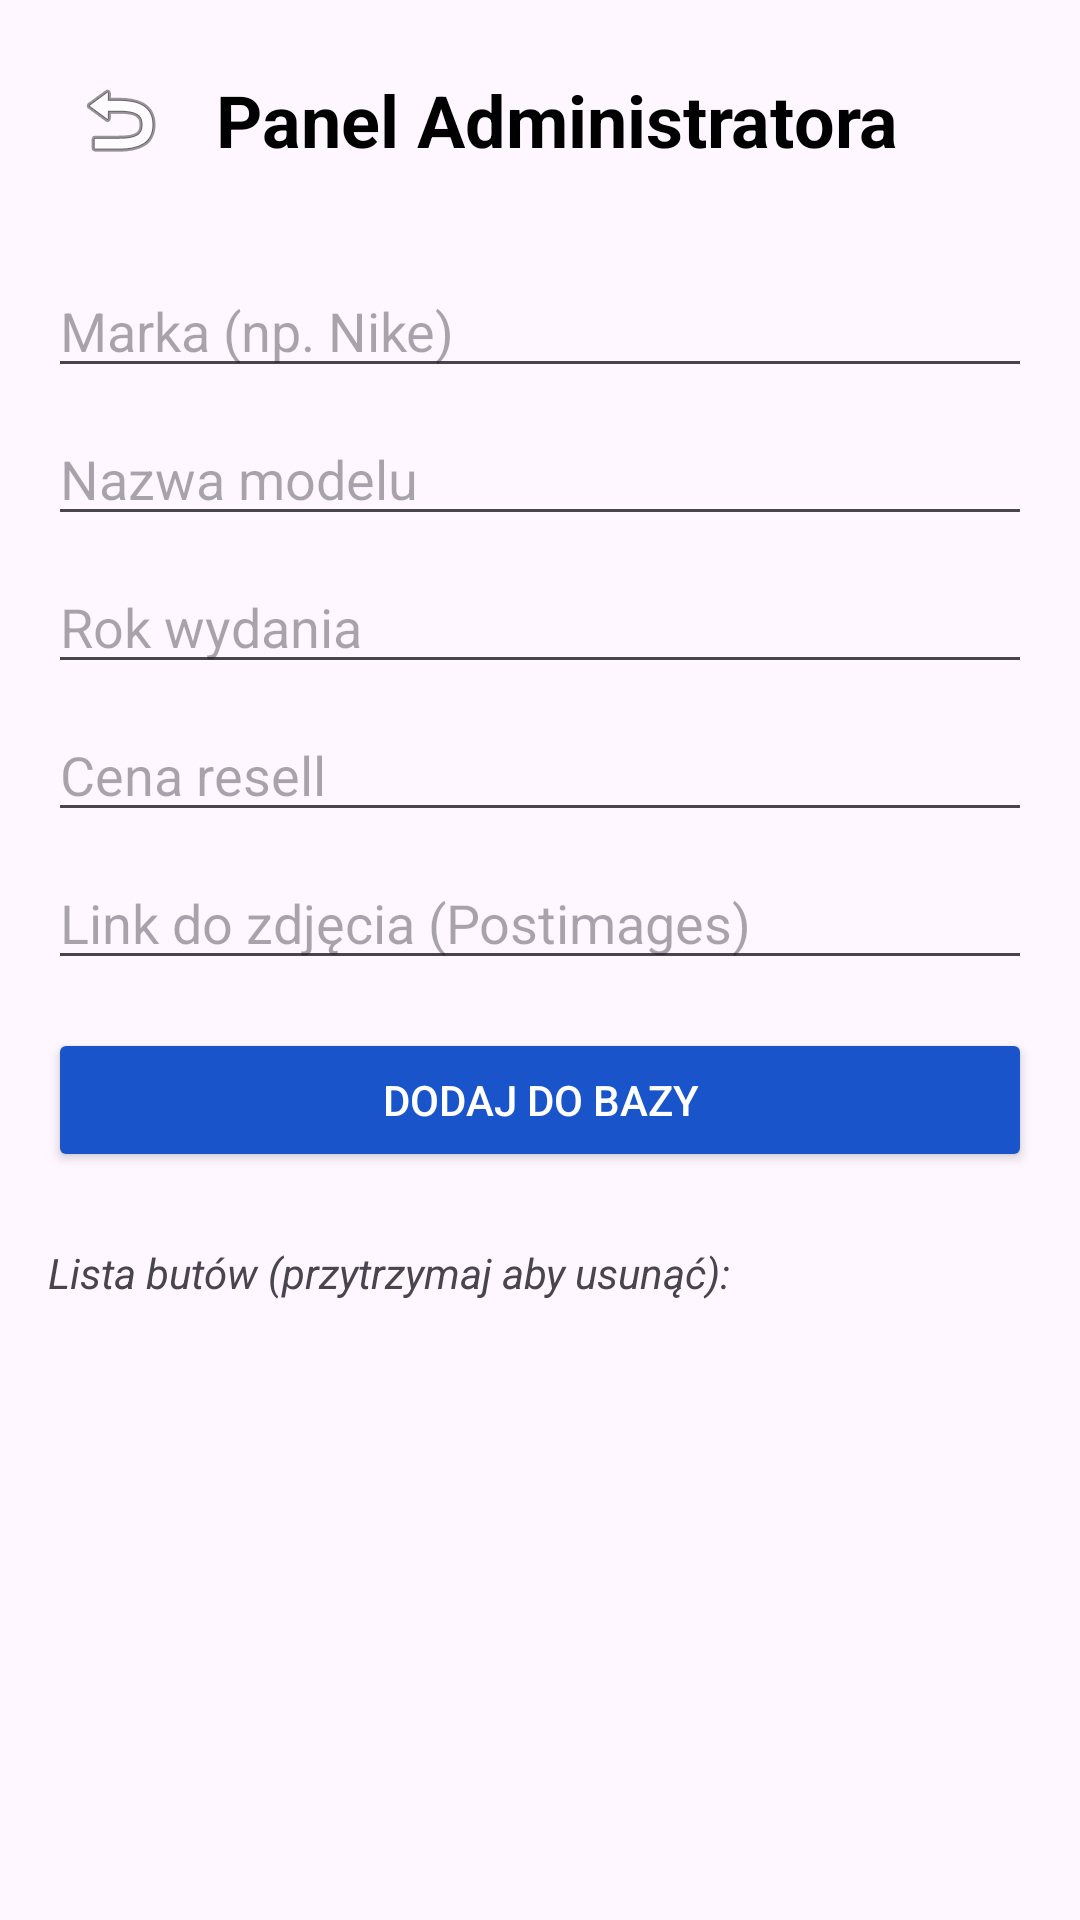

Point at icon controls on the screen. Image size 1080x1920, points as [x,y].
Powrót: [121,120]
